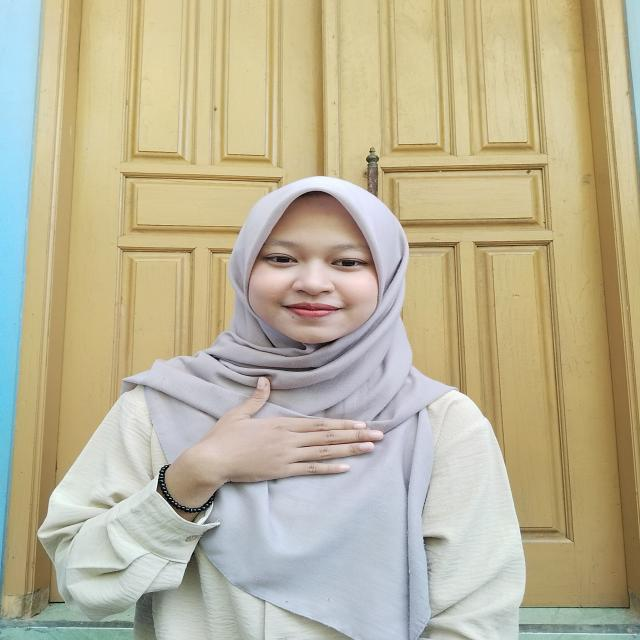tolong: (158, 376, 400, 508)
